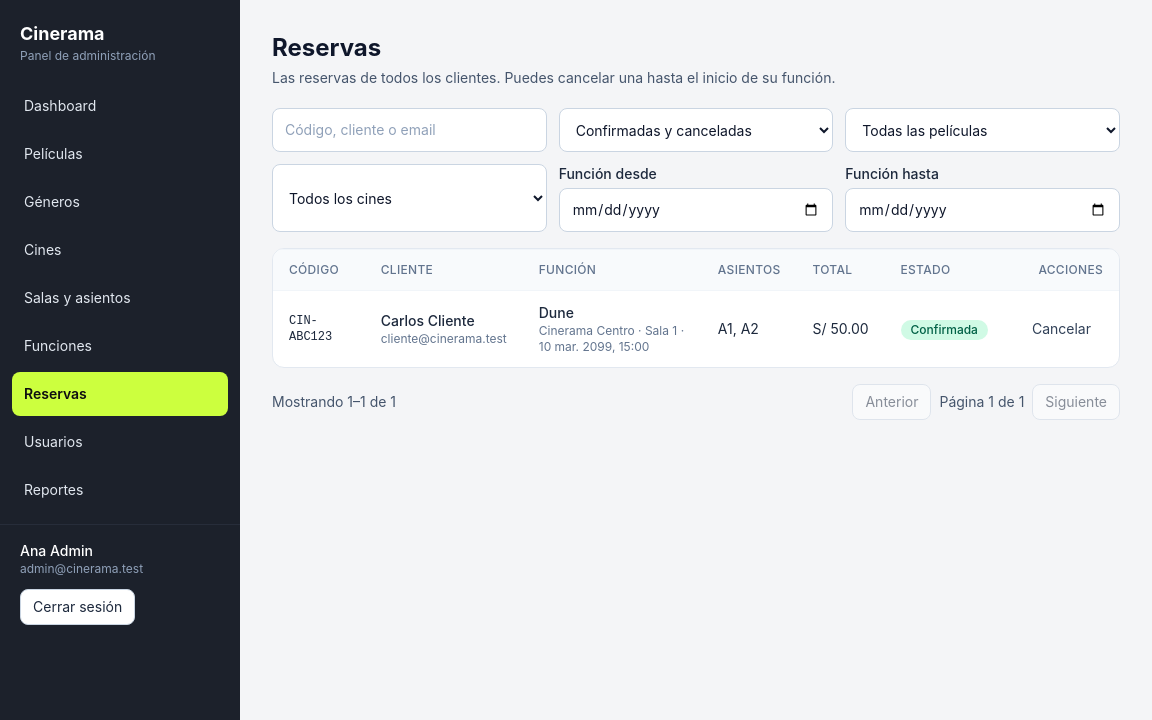
Scenario: Reservas › si la función empezó mientras se decidía, muestra el error y cierra el diálogo
Click the button with aria-label "Cancelar la reserva CIN-ABC123": [1062, 329] box [1020,311,1103,347]
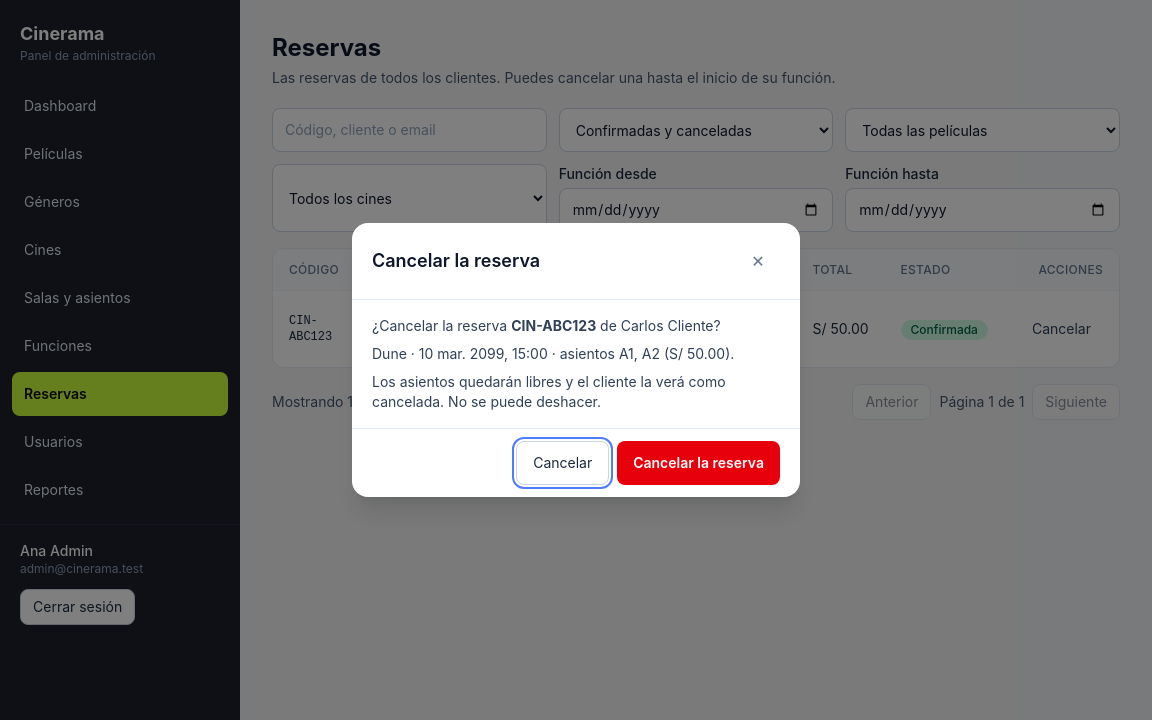
Click the button "Cancelar la reserva": [699, 463] box [617,441,780,485]
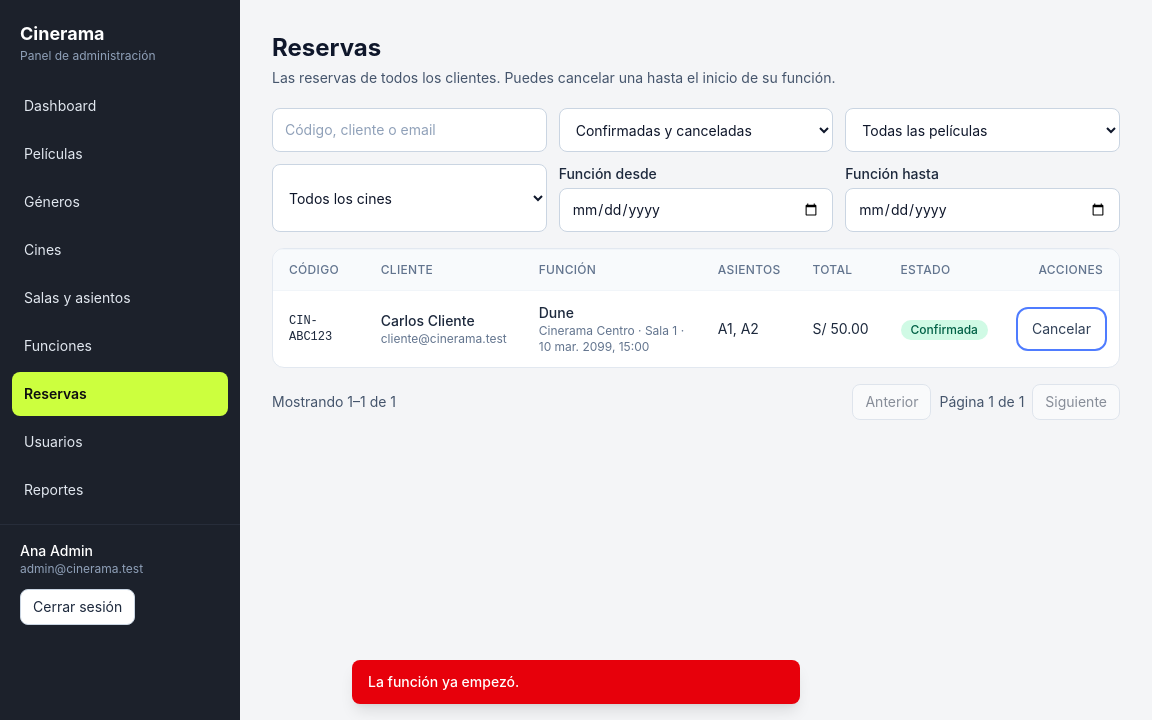
Check: the text "La función ya empezó." is shown, box [352,660,800,704]
Check: the dialog is gone
